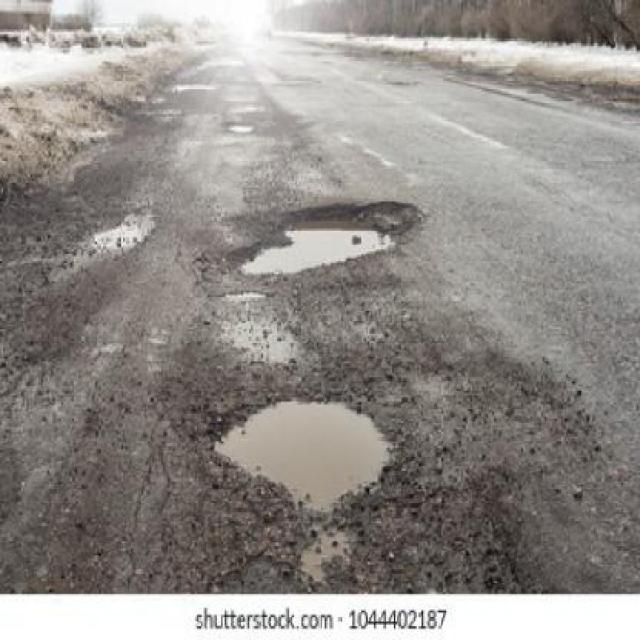Pothole: (206, 386, 402, 514), (230, 206, 408, 277)
